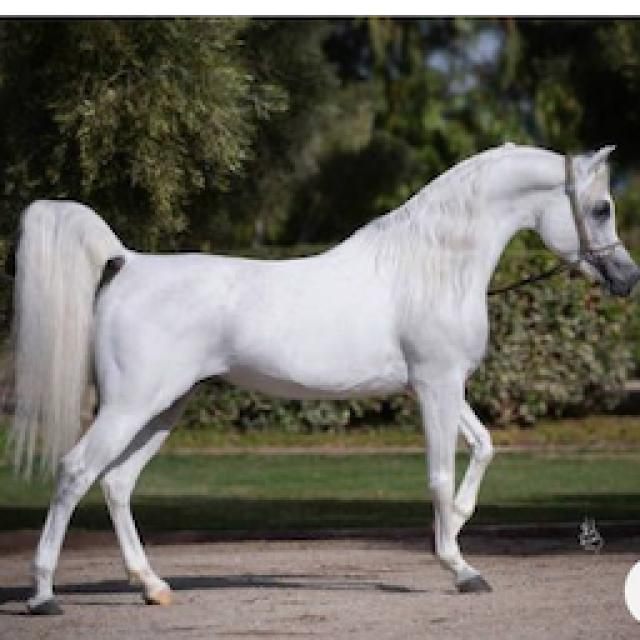Horse: (0, 132, 638, 616)
